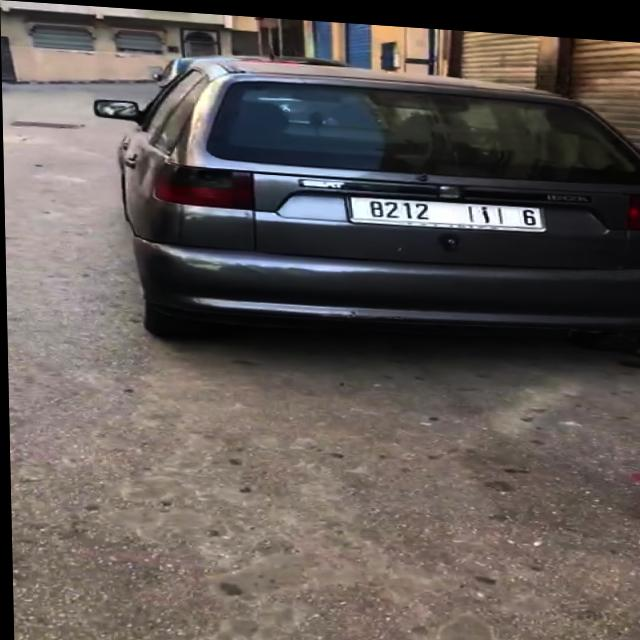License-Plate: (350, 192, 543, 225)
